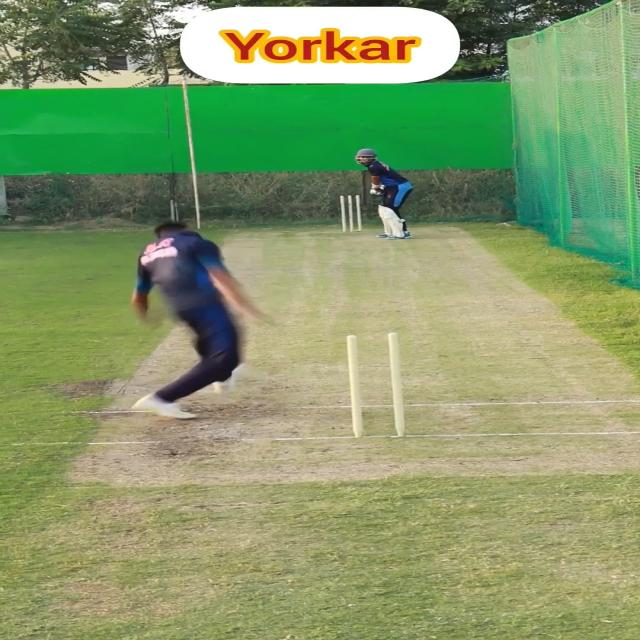stump: (344, 333, 408, 438), (339, 194, 364, 233)
